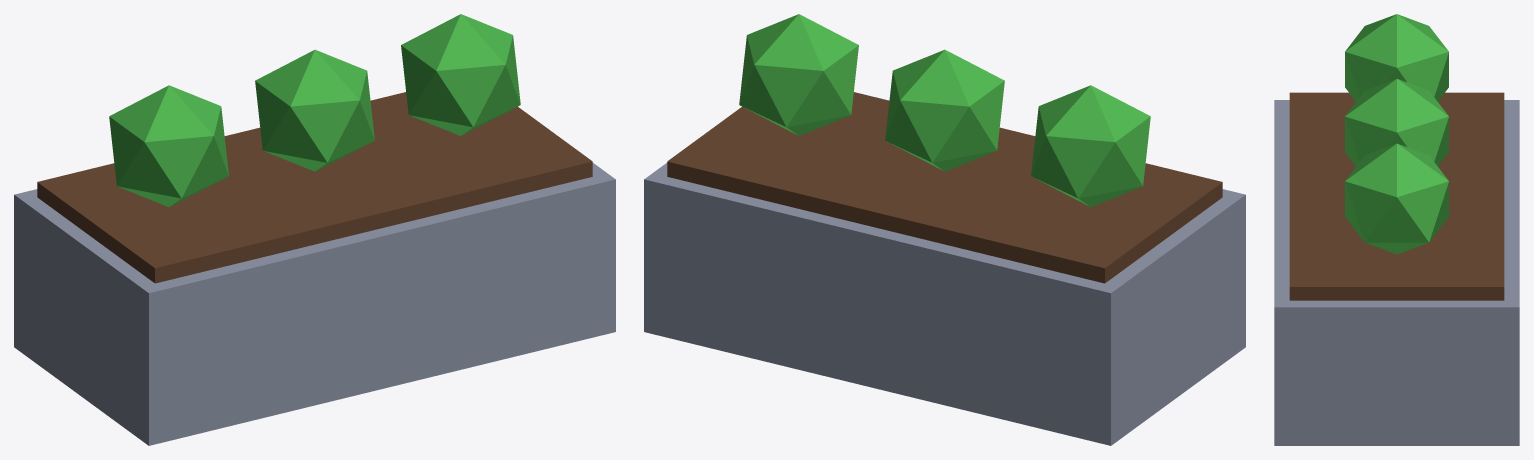
The model's file is colony-planter-box.glb.
3 views of the same model, side by side, from view 1: azimuth 30°, elevation 25°; view 2: azimuth 150°, elevation 25°; view 3: azimuth 270°, elevation 25° (orthographic). The views are drawn at different scales.
Parts seen in each view (by area): view 1: planter_box; view 2: planter_box; view 3: planter_box.
Part boxes in pixels (<box>): planter_box: <box>14,14,615,445</box>; planter_box: <box>644,14,1245,445</box>; planter_box: <box>1274,14,1519,445</box>.
Size of the model in its own units: 1.6 by 0.95 by 0.8.
